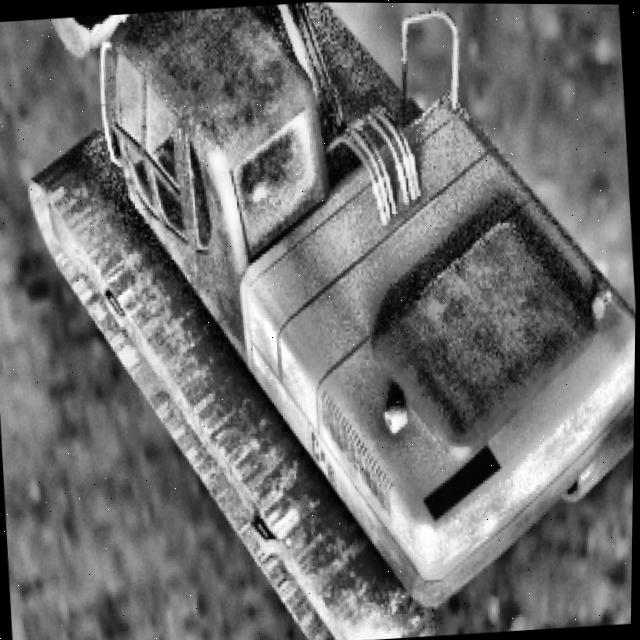excavator: (1, 0, 640, 640)
